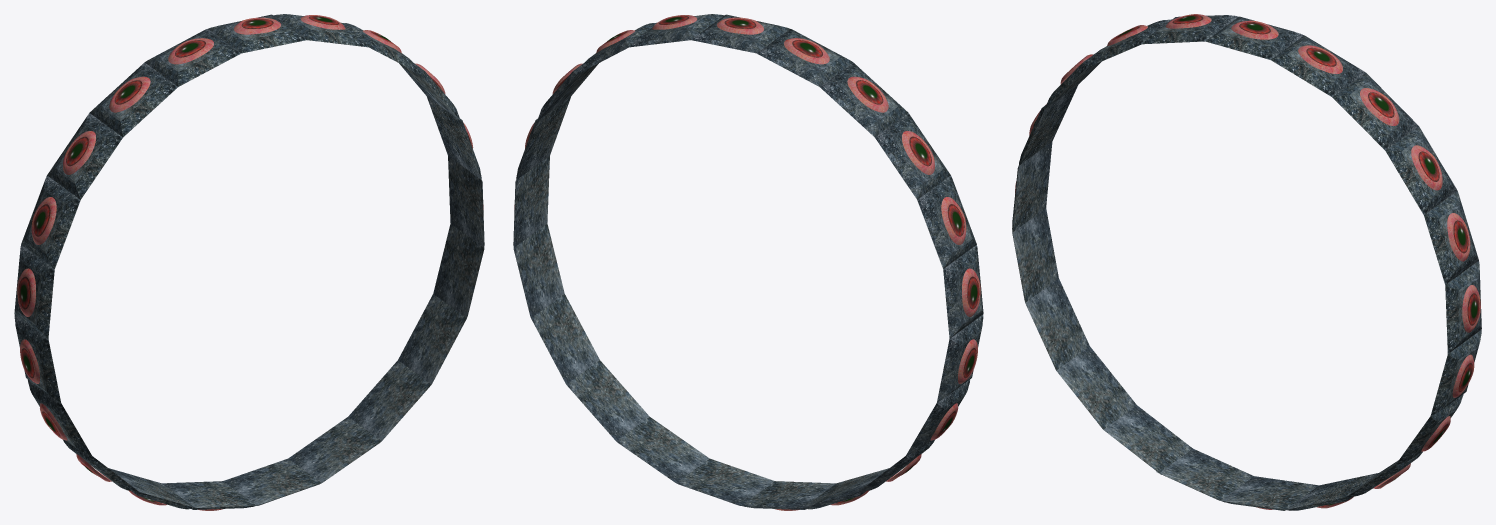
The model's file is InternlRingglb.glb.
3 views of the same model, side by side, from view 1: azimuth 30°, elevation 25°; view 2: azimuth 150°, elevation 25°; view 3: azimuth 330°, elevation 25° (orthographic).
Parts seen in each view (by area): view 1: Ring2; view 2: Ring2; view 3: Ring2.
Part boxes in pixels (<box>): Ring2: <box>14,14,484,510</box>; Ring2: <box>513,14,983,510</box>; Ring2: <box>1012,14,1481,510</box>.
Size of the model in its own units: 0.9008 by 0.9008 by 0.1158.
3 materials, 3 textured.
